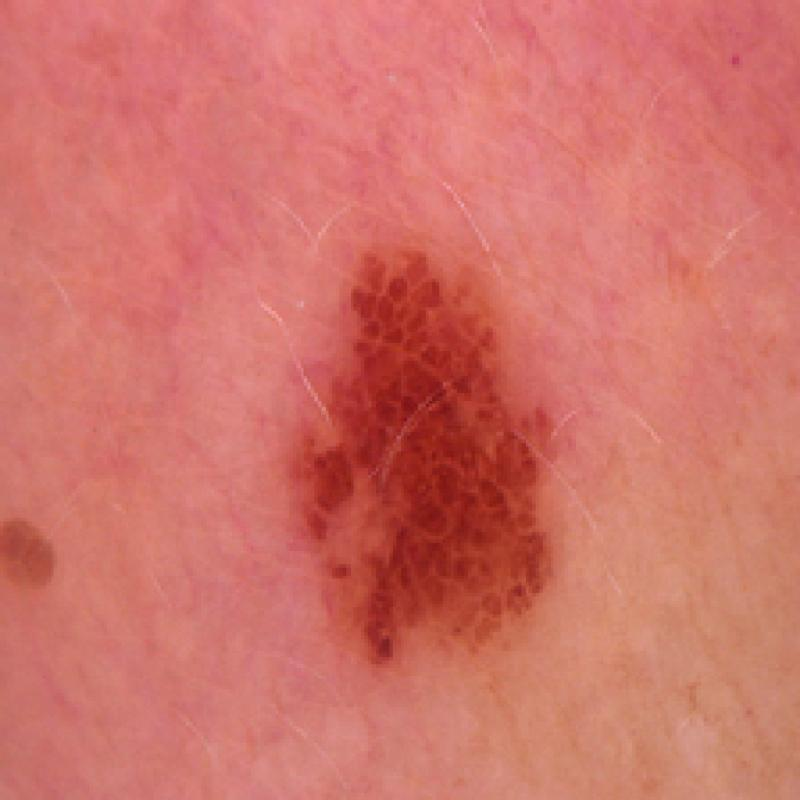benign: (254, 220, 622, 710)
